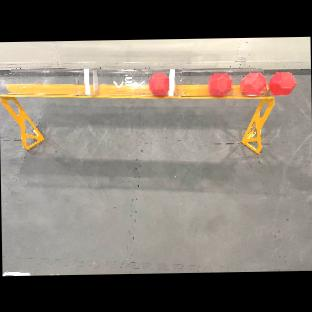Goal: (1, 61, 294, 106)
redingoal: (266, 69, 297, 97), (205, 69, 233, 96), (239, 70, 267, 97), (145, 72, 171, 95)
